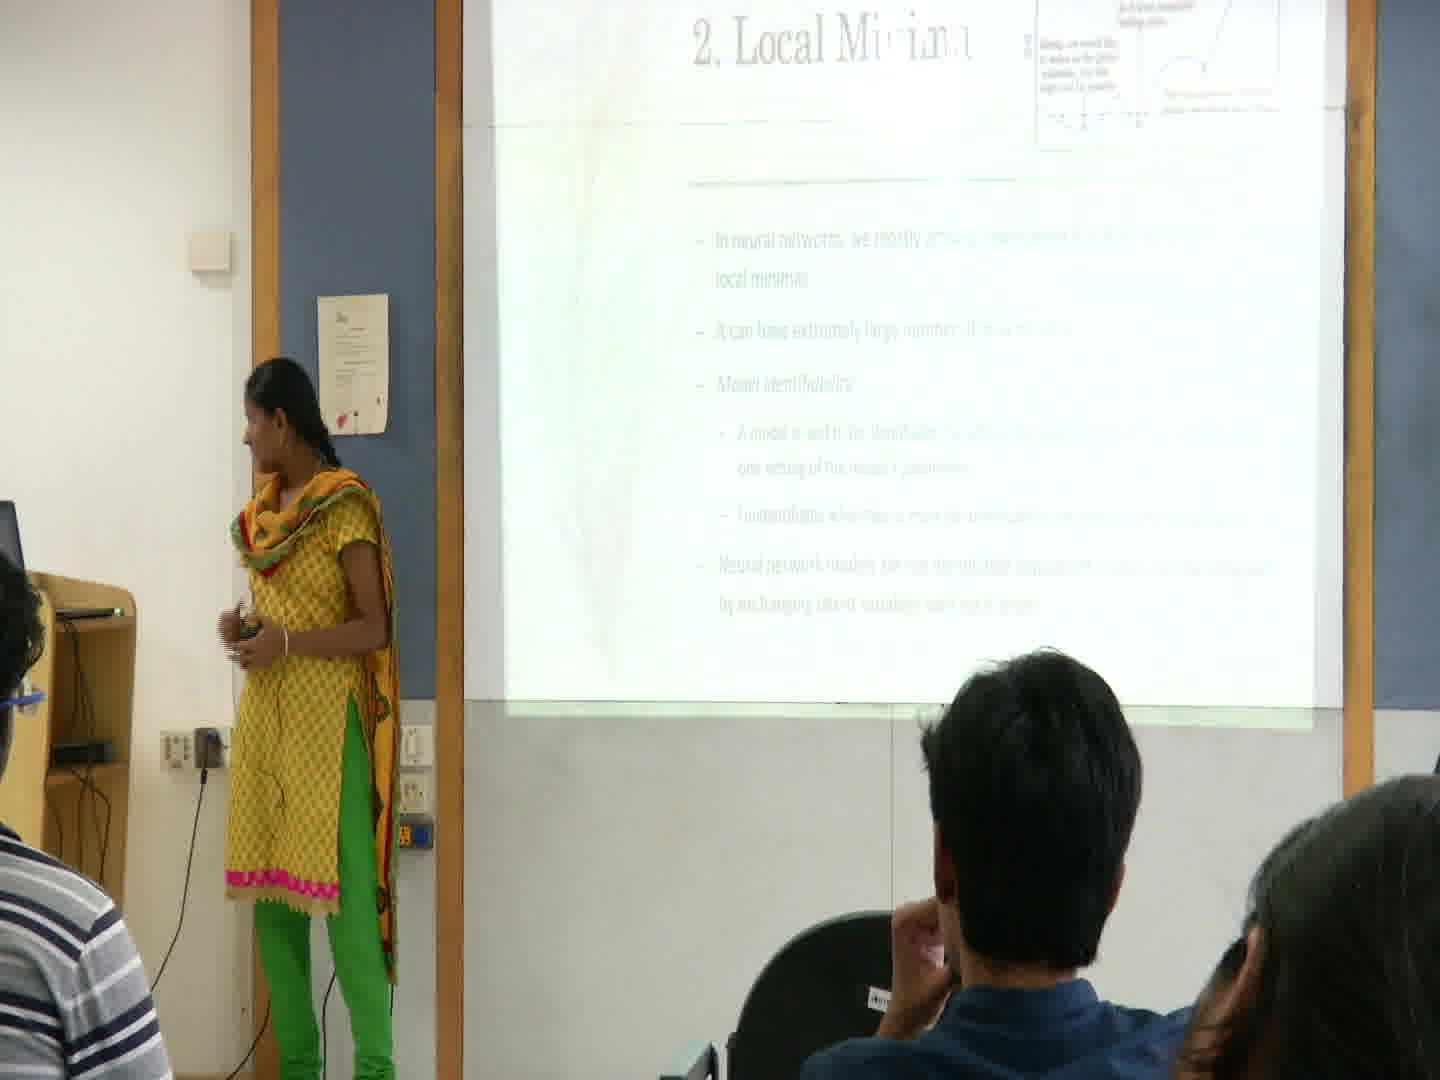slide: (492, 3, 1316, 731)
